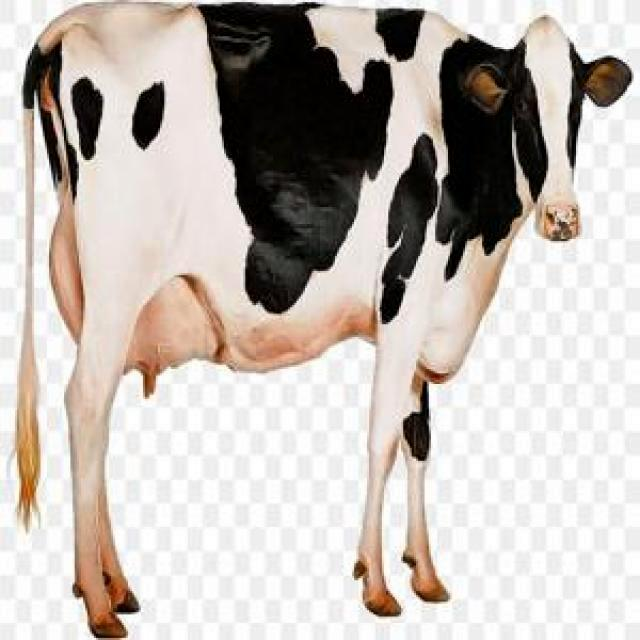COW: (16, 4, 631, 639)
